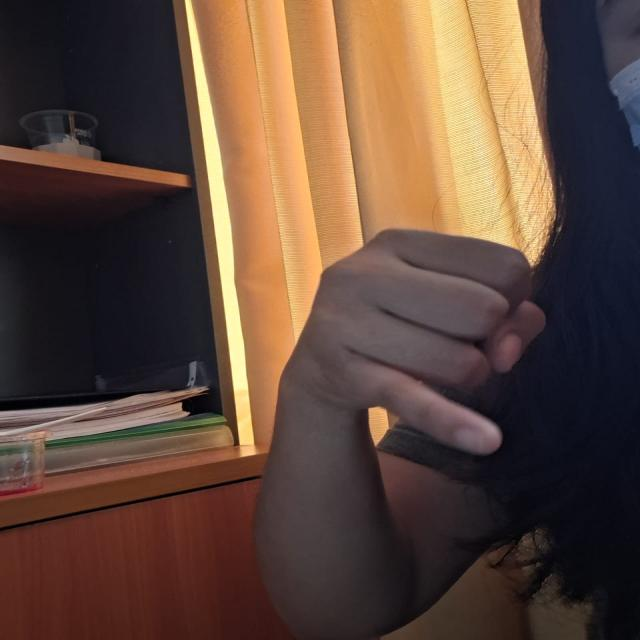J: (275, 213, 572, 465)
